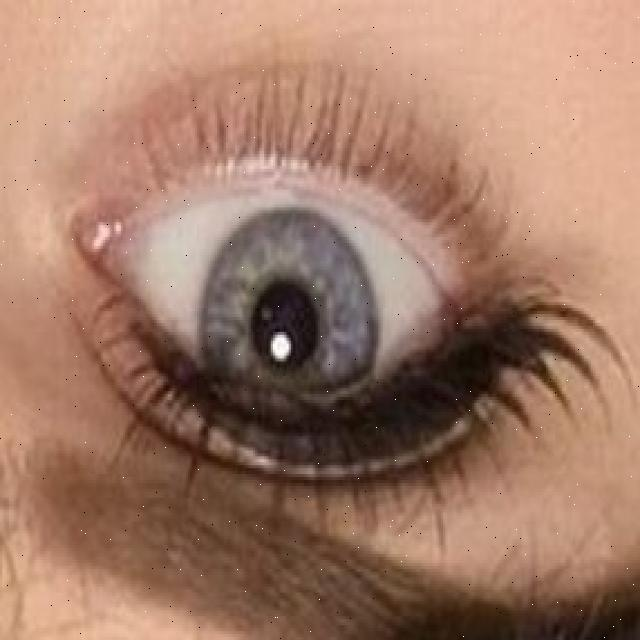Normal: (202, 206, 378, 451)
